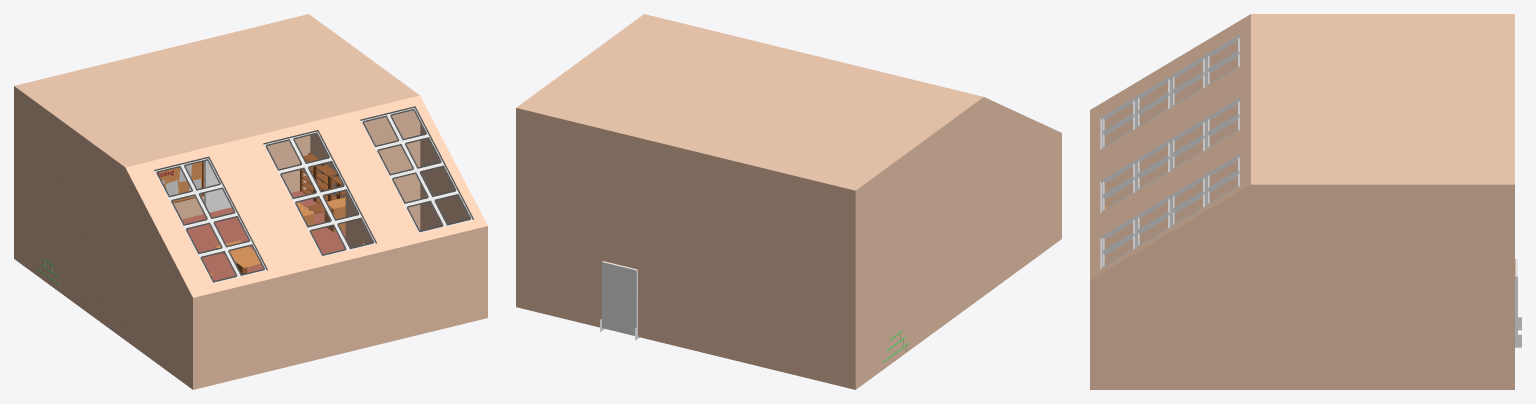
The model's file is ResKitten_CoffeCat.fbx.
3 renders of one model, left to right at view 1: azimuth 30°, elevation 25°; view 2: azimuth 150°, elevation 25°; view 3: azimuth 270°, elevation 25°, orthographic. The views are drawn at different scales.
Parts seen in each view (by area): view 1: CoffeCat, MoneyBox, CTRL_Hole, Cube, Tables, Shelves2, Shelves3; view 2: CoffeCat, CTRL_Hole; view 3: CoffeCat.
Boxes of the visible parts, x1,y1,x2,y2 form: CoffeCat: [14, 14, 487, 389]; MoneyBox: [296, 197, 345, 236]; CTRL_Hole: [204, 160, 231, 212]; Cube: [159, 161, 203, 203]; Tables: [209, 240, 260, 276]; Shelves2: [314, 163, 337, 203]; Shelves3: [300, 152, 323, 201]; CoffeCat: [516, 14, 1061, 389]; CTRL_Hole: [602, 261, 638, 335]; CoffeCat: [1090, 14, 1514, 389].
Bounding box in the file's own units: 1464 × 827 × 1564.
